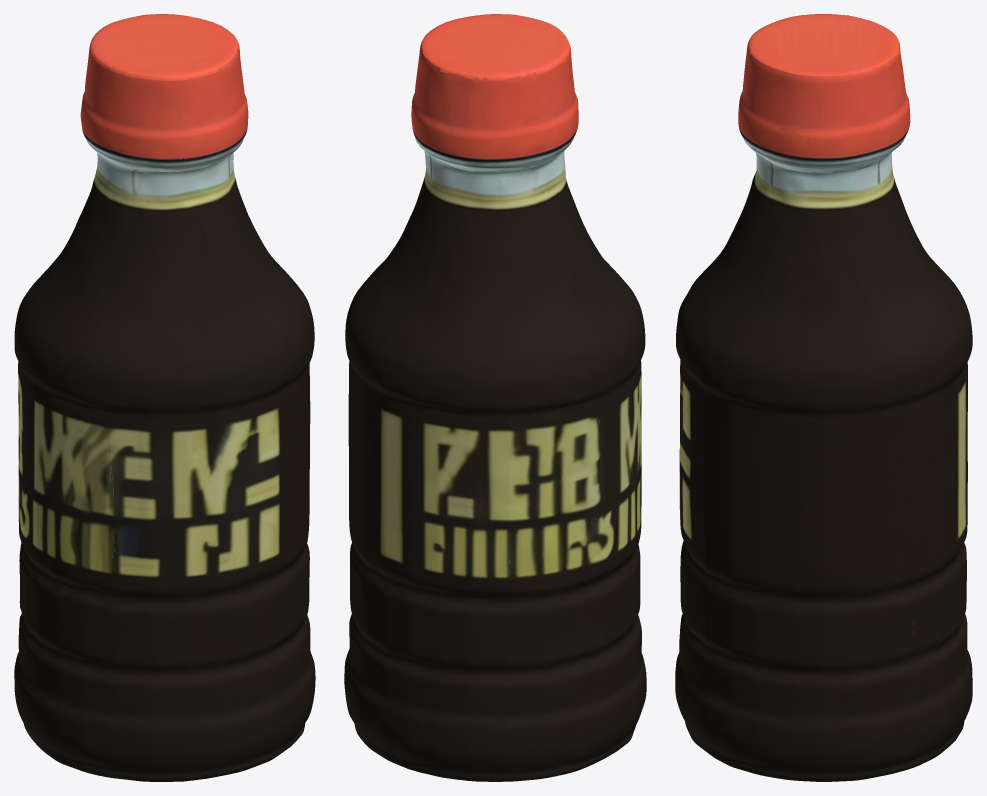
3 renders of one model, left to right at view 1: azimuth 30°, elevation 25°; view 2: azimuth 150°, elevation 25°; view 3: azimuth 270°, elevation 25°, orthographic.
Parts seen in each view (by area): view 1: tmpvt9cq8gj.ply; view 2: tmpvt9cq8gj.ply; view 3: tmpvt9cq8gj.ply.
Part boxes in pixels (<box>): tmpvt9cq8gj.ply: <box>14,14,315,781</box>; tmpvt9cq8gj.ply: <box>344,14,646,781</box>; tmpvt9cq8gj.ply: <box>675,14,972,781</box>.
Size of the model in its own units: 0.7908 by 1.96 by 0.7759.
Materials: 1 (1 with a texture image).
